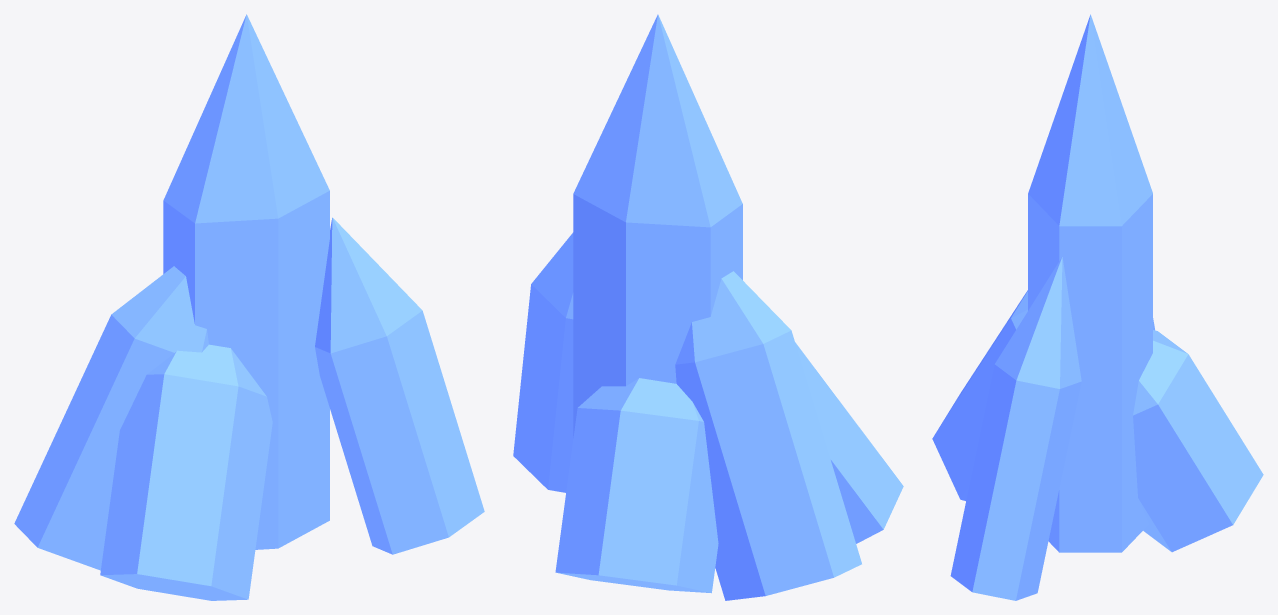
The model's file is cryst1a.glb.
The picture shows the model from 3 angles, left to right: view 1: azimuth 30°, elevation 25°; view 2: azimuth 150°, elevation 25°; view 3: azimuth 270°, elevation 25°; orthographic projection. The views are drawn at different scales.
Visible parts, largest first — view 1: shard; view 2: shard; view 3: shard.
Part boxes in pixels (x1,y1,x2,y2): shard: (14,14,484,600); shard: (513,14,903,600); shard: (932,14,1263,600).
Size of the model in its own units: 6.28 by 8.46 by 4.74.
